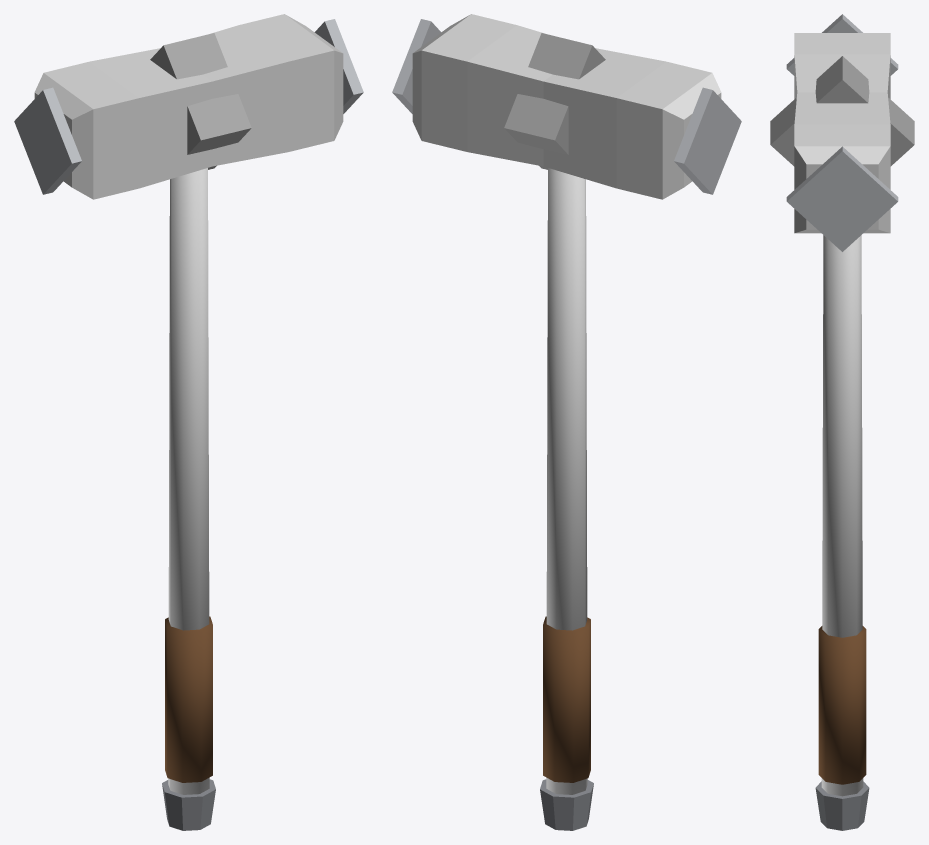
The model's file is wooden_hammer.glb.
The picture shows the model from 3 angles, left to right: view 1: azimuth 30°, elevation 25°; view 2: azimuth 150°, elevation 25°; view 3: azimuth 270°, elevation 25°; orthographic projection. The views are drawn at different scales.
Visible parts, largest first — view 1: wooden_hammer_v0; view 2: wooden_hammer_v0; view 3: wooden_hammer_v0.
Part boxes in pixels (x1,y1,x2,y2): wooden_hammer_v0: (14,14,363,830); wooden_hammer_v0: (392,14,741,830); wooden_hammer_v0: (770,14,914,830).
Bounding box in the file's own units: 0.344 × 0.8813 × 0.1526.
